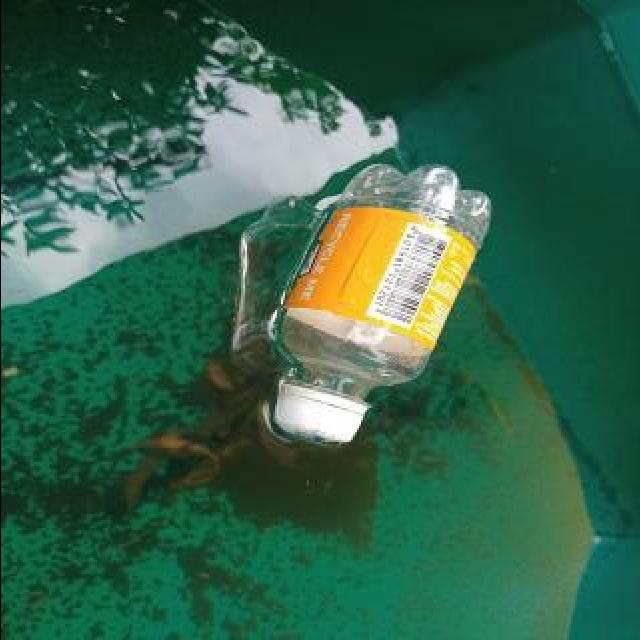Bottle: (260, 157, 498, 453)
